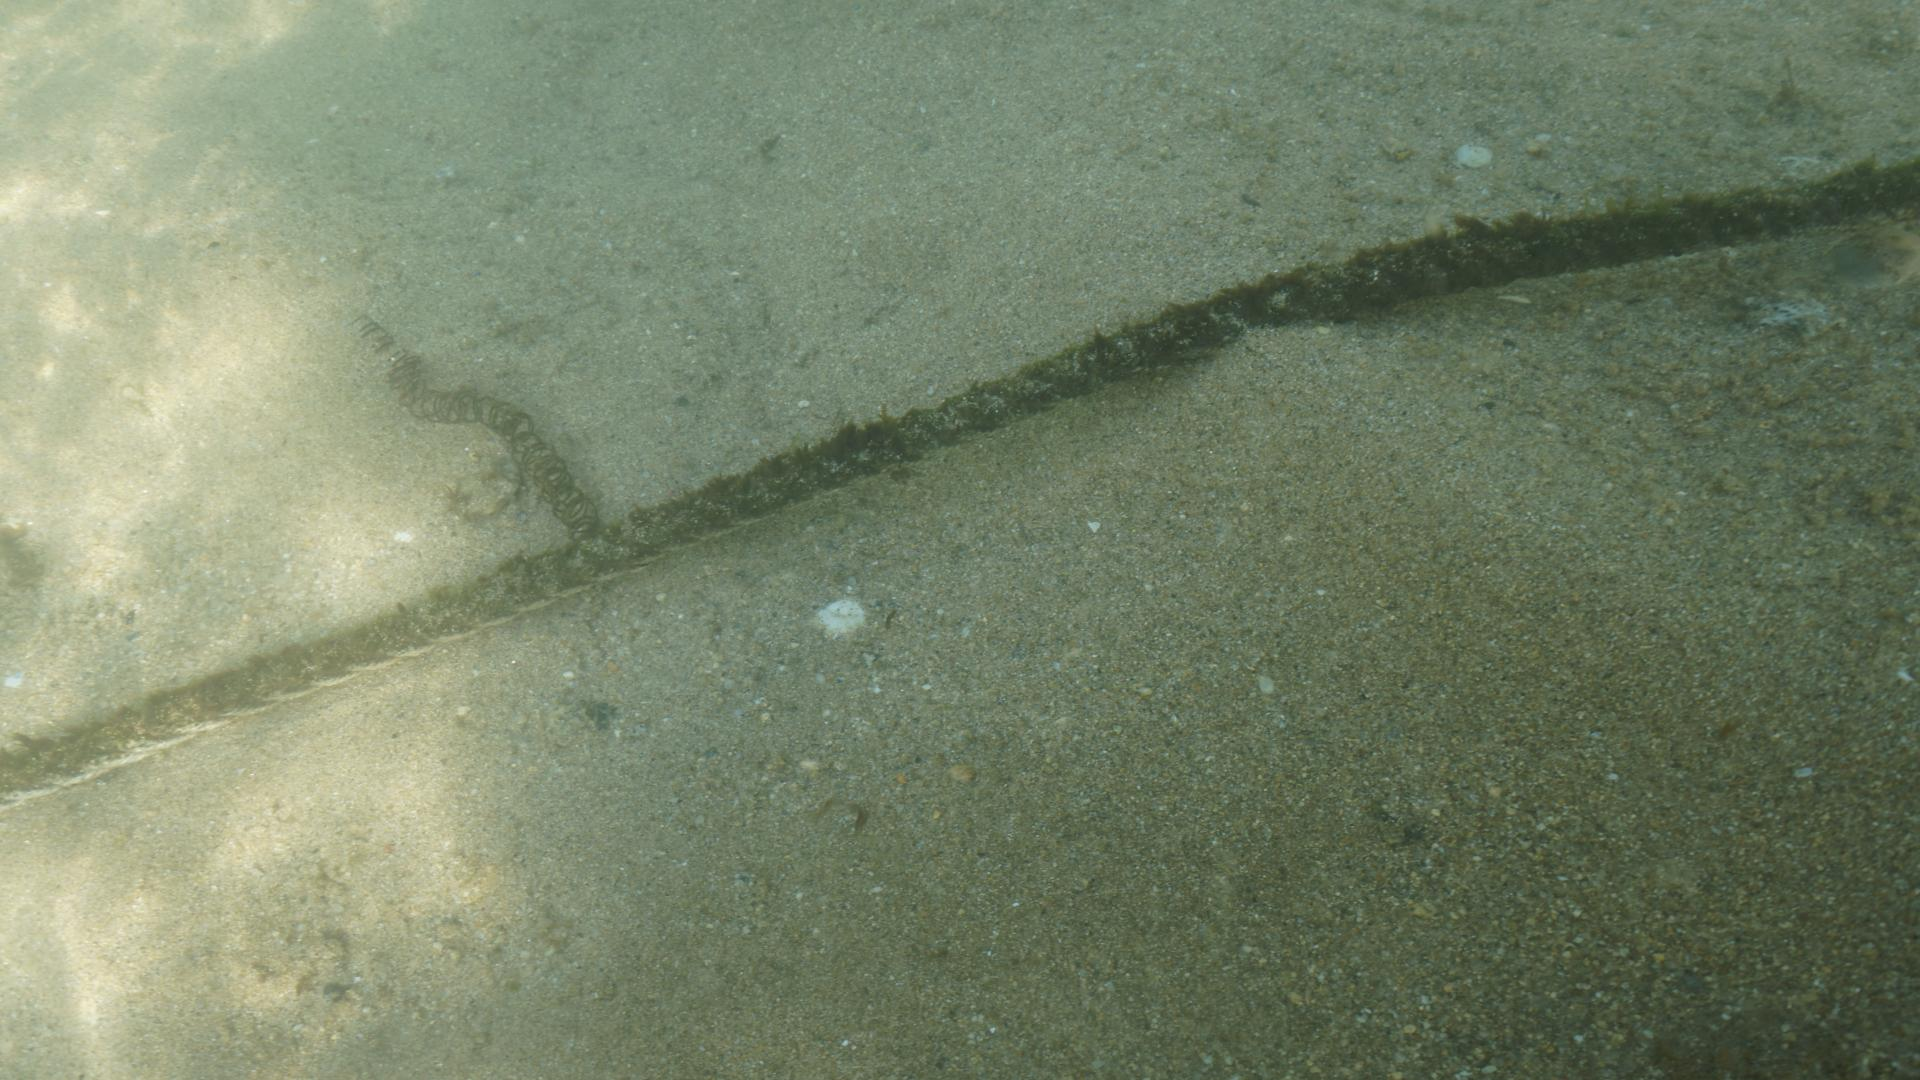rope: (0, 156, 1920, 810)
